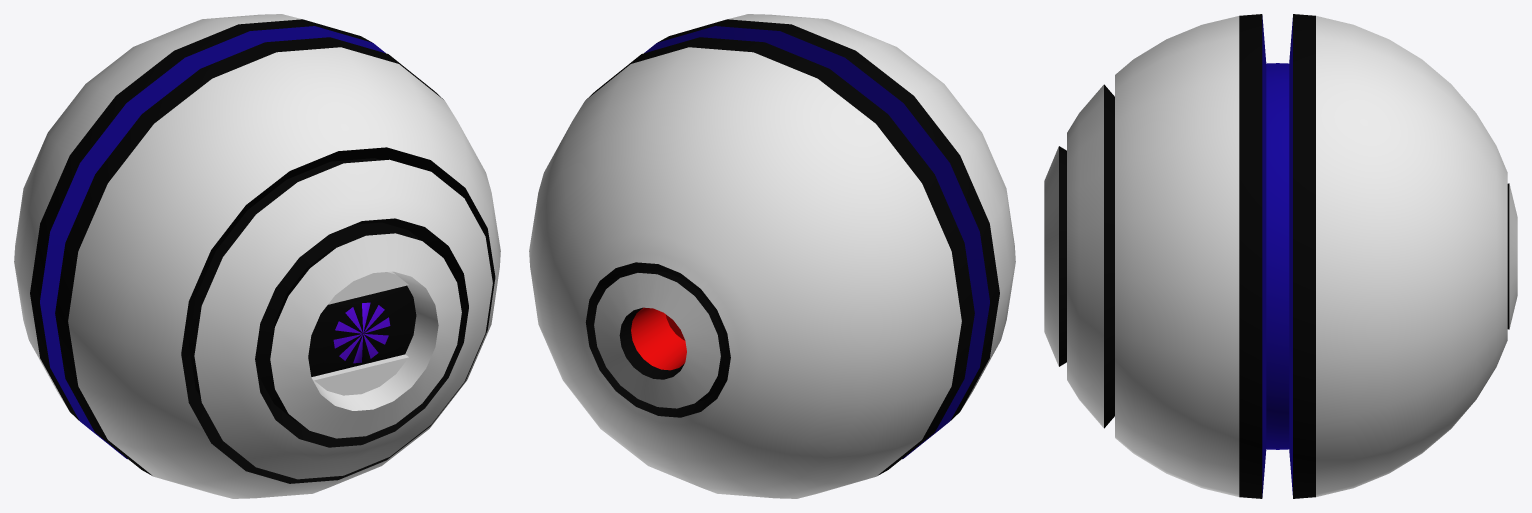
File: robotest.fbx
3 views of the same model, side by side, from view 1: azimuth 30°, elevation 25°; view 2: azimuth 150°, elevation 25°; view 3: azimuth 270°, elevation 25° (orthographic).
Visible parts, largest first — view 1: pSphere1; view 2: pSphere1; view 3: pSphere1.
Part boxes in pixels (<box>): pSphere1: <box>14,14,500,498</box>; pSphere1: <box>529,14,1015,498</box>; pSphere1: <box>1044,14,1517,498</box>.
Size of the model in its own units: 2.41 by 2.41 by 2.34.
